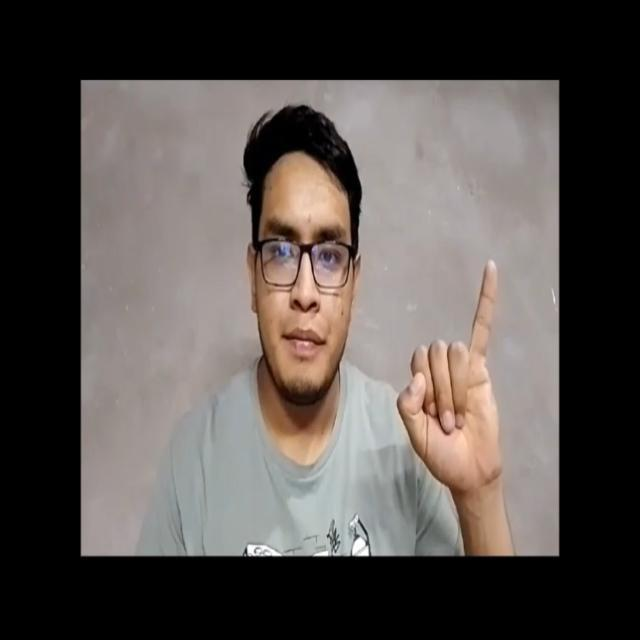I: (384, 245, 514, 502)
